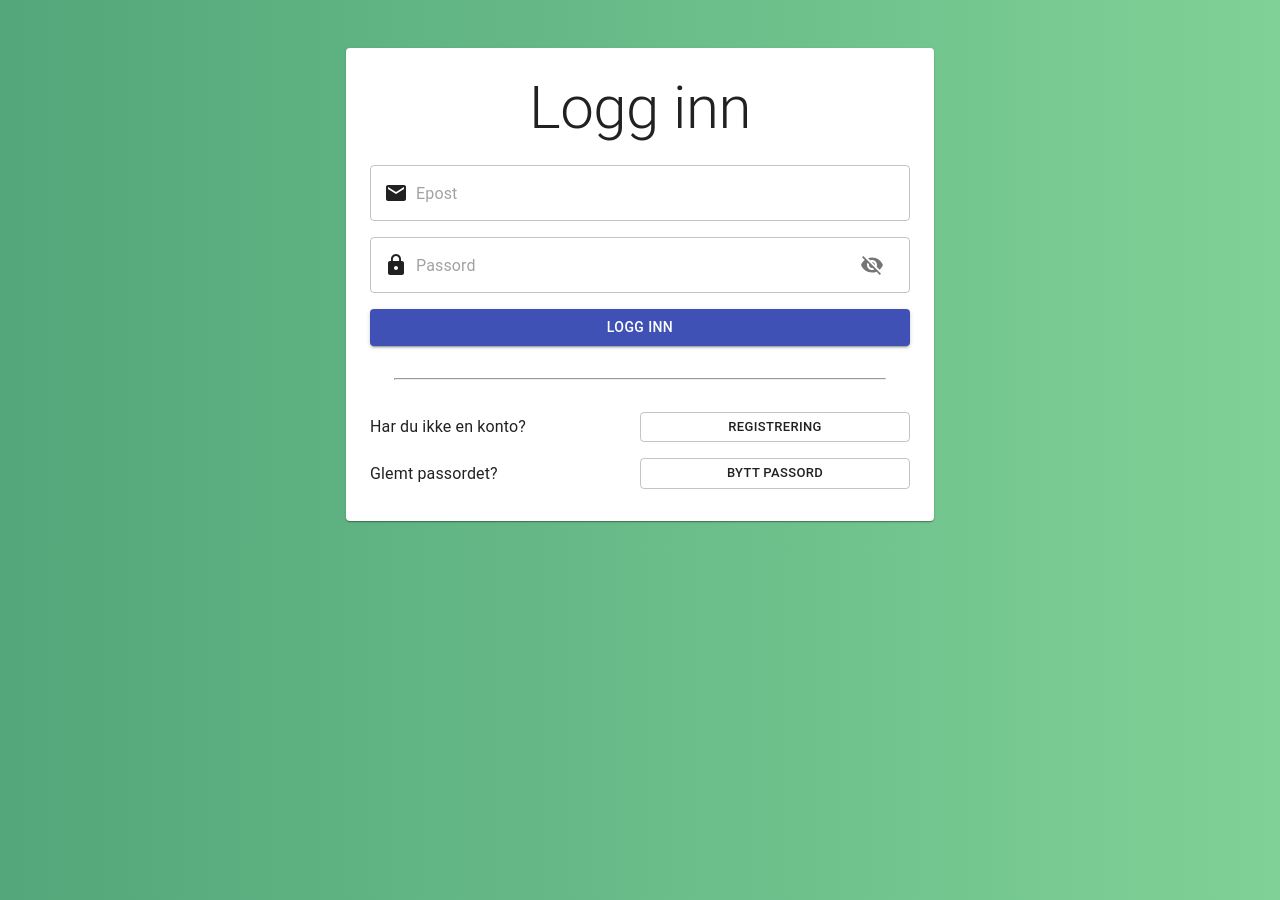
Test: The Login component › should show a general error message
The image size is (1280, 900).
Type "test@lim.no" into the field with placeholder "Epost".
click(663, 193); type("test@lim.no")  # box [416, 165, 910, 221]
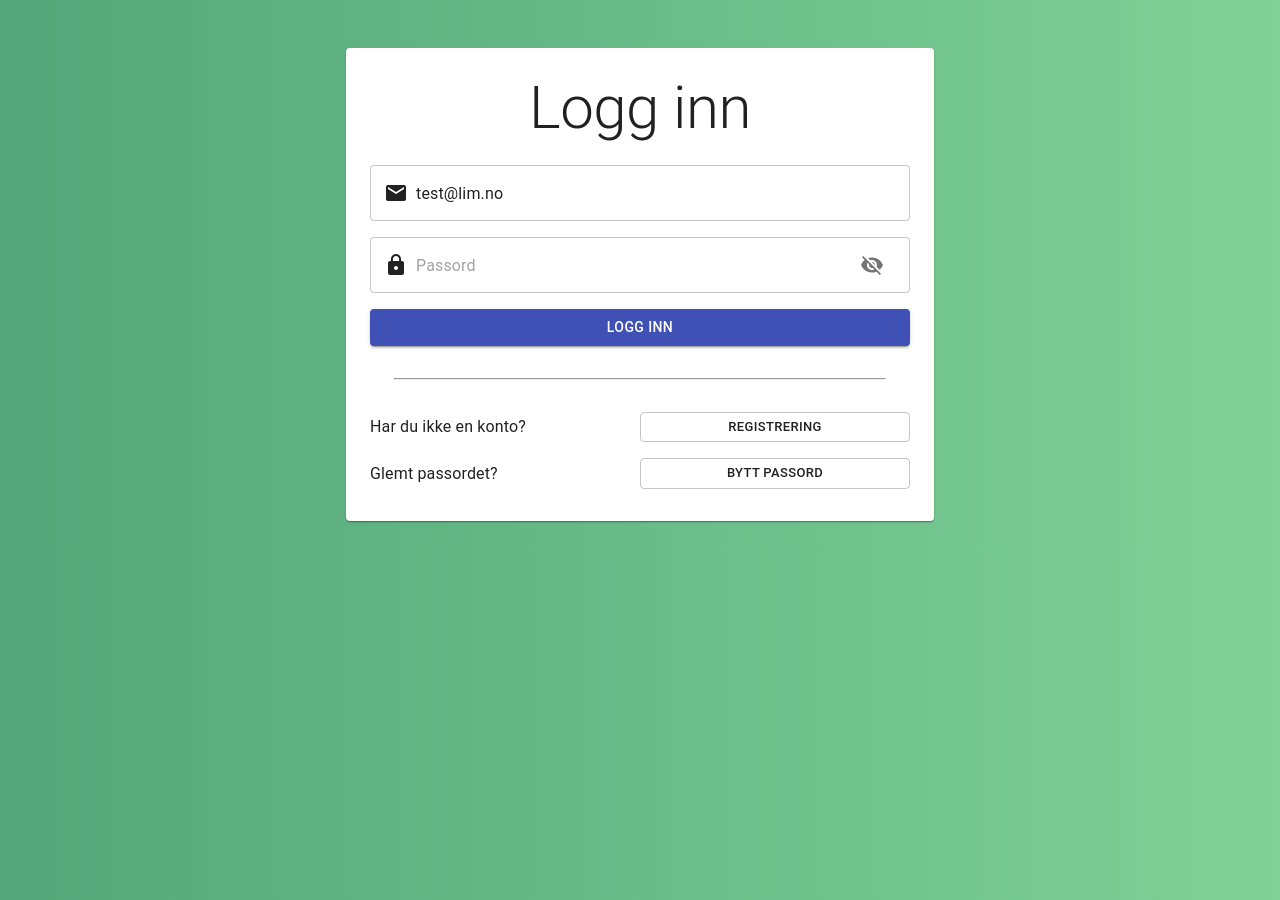
Type "Sometext" into the password field with placeholder "Passord".
click(628, 265); type("Sometext")  # box [416, 237, 840, 293]
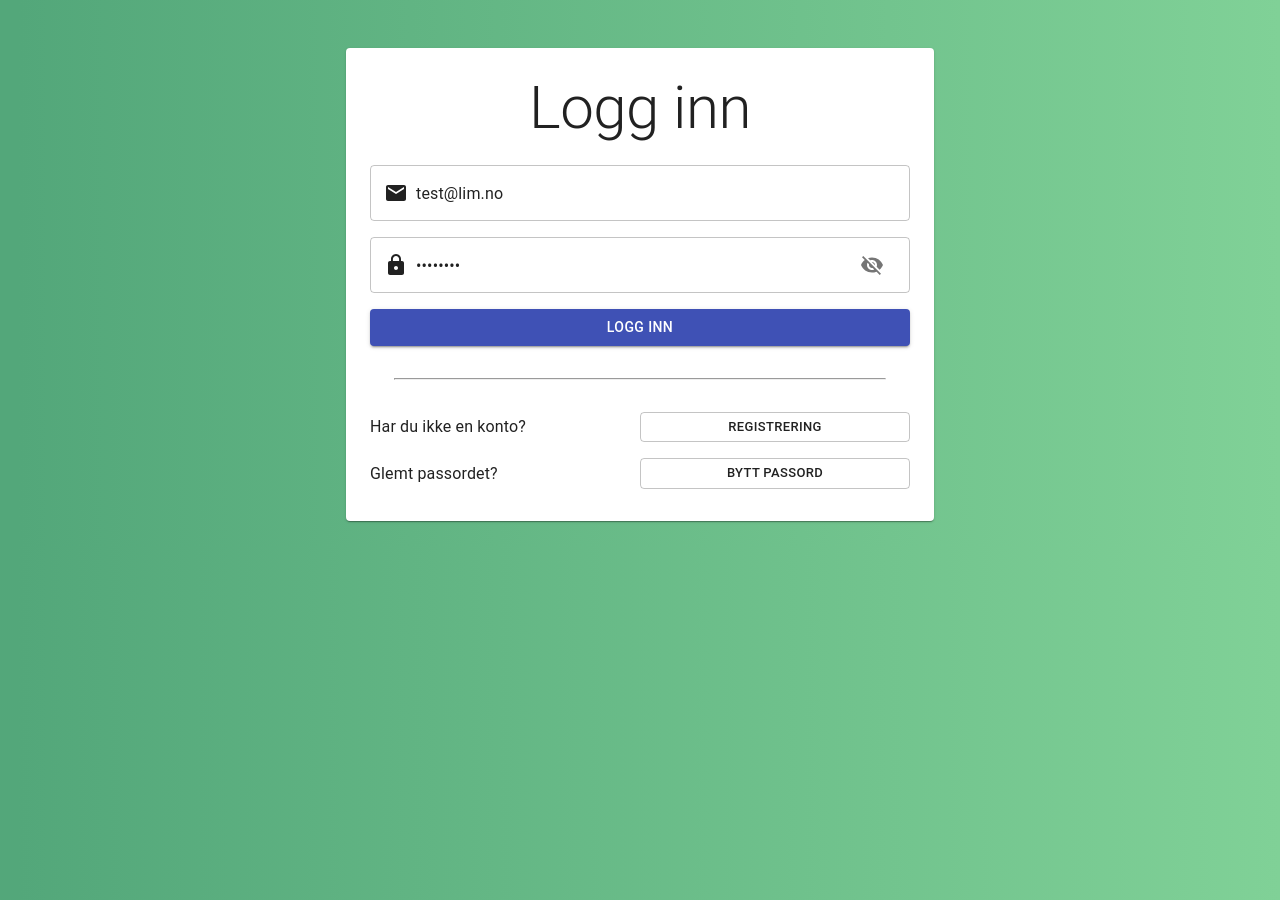
Click the button with test id "LoggInnButton".
click(640, 327)  # box [370, 309, 910, 346]
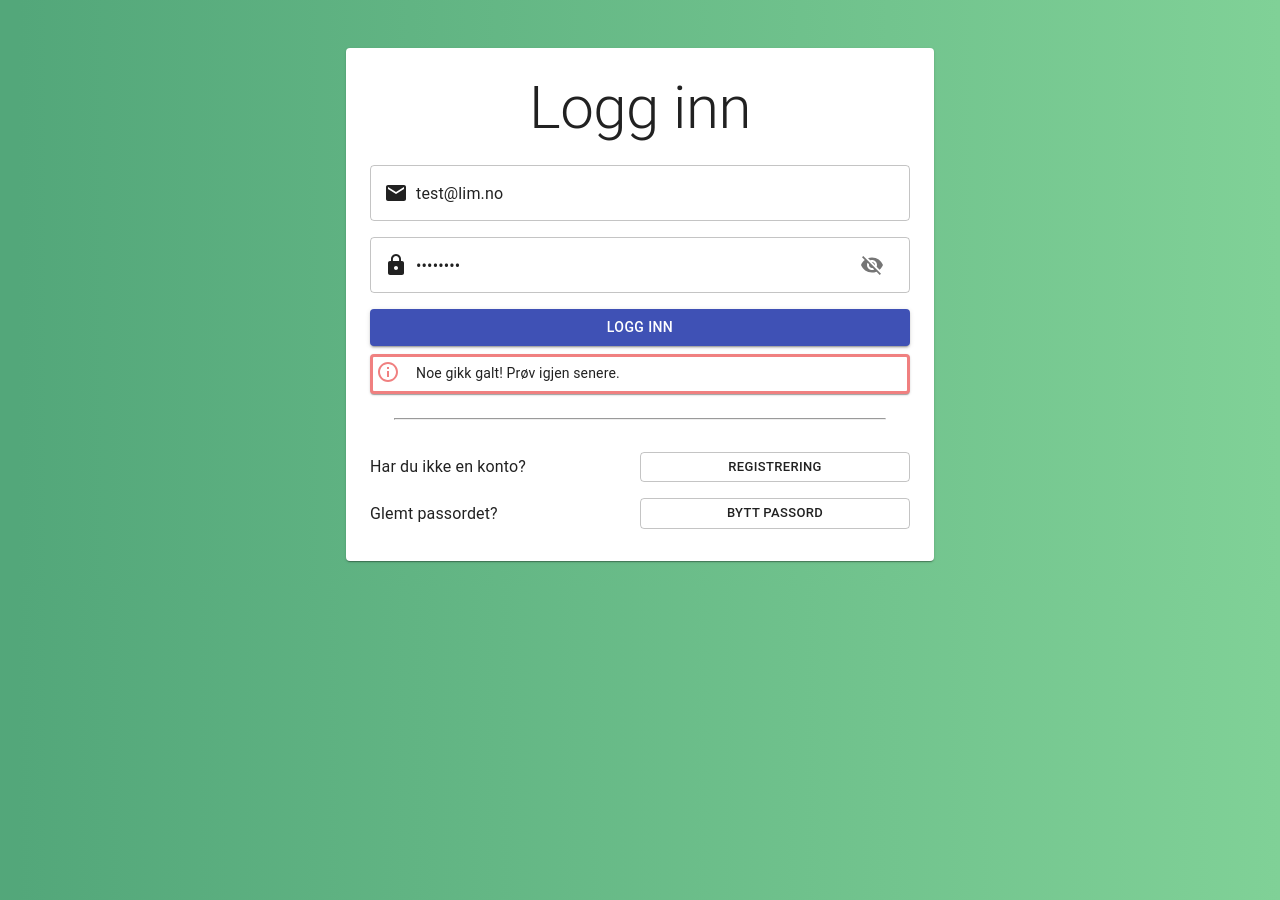
Check: the text "Noe gikk galt! Prøv igjen senere." is shown, box [416, 366, 620, 382]
